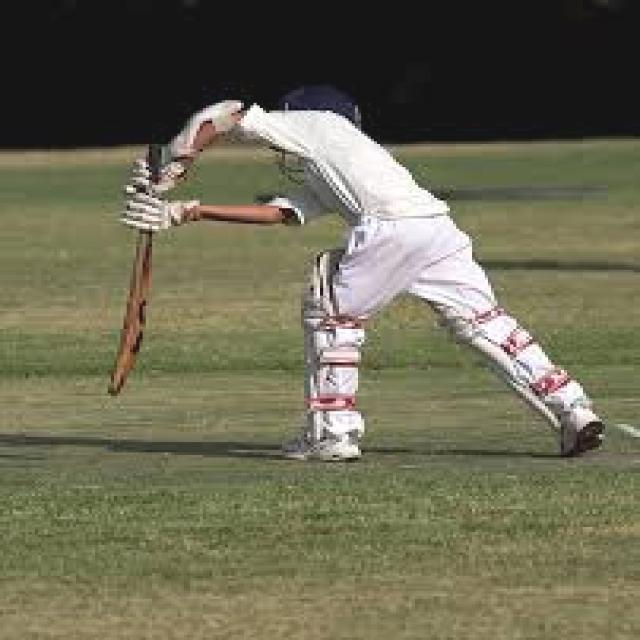bat: (95, 228, 151, 410)
toe: (84, 378, 141, 401)
